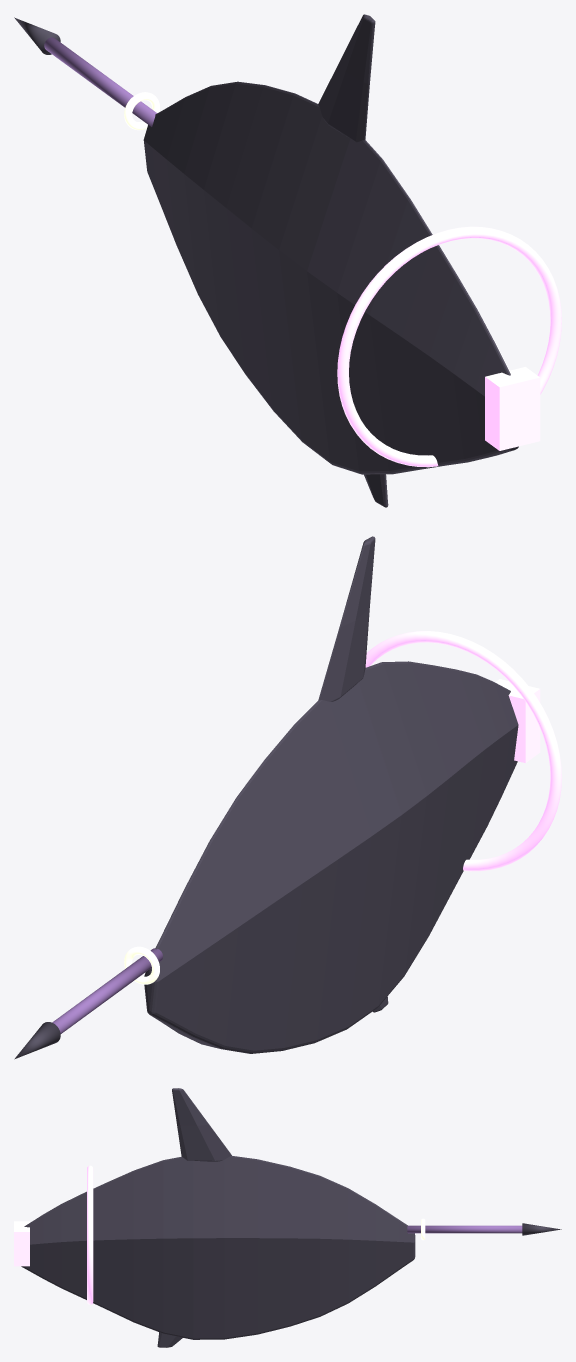
The model's file is ezrathi-scout.glb.
The picture shows the model from 3 angles, top to bottom: view 1: azimuth 30°, elevation 25°; view 2: azimuth 150°, elevation 25°; view 3: azimuth 270°, elevation 25°; orthographic projection. The views are drawn at different scales.
Parts seen in each view (by area): view 1: hull, Torus.001, fin, Cube, Cylinder, Torus; view 2: hull, Torus.001, fin, Cylinder, Cube, Cone, Torus; view 3: hull, fin, Cylinder, Torus.001, Cube.
Boxes of the visible parts, bbox=[...] form: hull: bbox=[143, 81, 518, 474]; Torus.001: bbox=[337, 226, 561, 467]; fin: bbox=[318, 14, 375, 142]; Cube: bbox=[485, 367, 540, 450]; Cylinder: bbox=[44, 37, 157, 126]; Torus: bbox=[124, 92, 159, 130]; hull: bbox=[144, 661, 518, 1053]; Torus.001: bbox=[365, 631, 561, 871]; fin: bbox=[318, 536, 375, 701]; Cylinder: bbox=[52, 948, 162, 1033]; Cube: bbox=[495, 679, 540, 762]; Cone: bbox=[14, 1022, 60, 1059]; Torus: bbox=[124, 946, 159, 984]; hull: bbox=[21, 1156, 415, 1339]; fin: bbox=[172, 1088, 231, 1161]; Cylinder: bbox=[407, 1225, 522, 1233]; Torus.001: bbox=[87, 1165, 93, 1304]; Cube: bbox=[14, 1221, 29, 1266].
Size of the model in its own units: 0.88 by 1.8 by 3.45.
